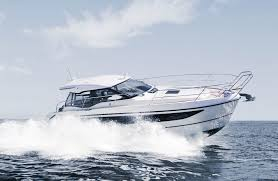boat: (42, 70, 256, 144)
